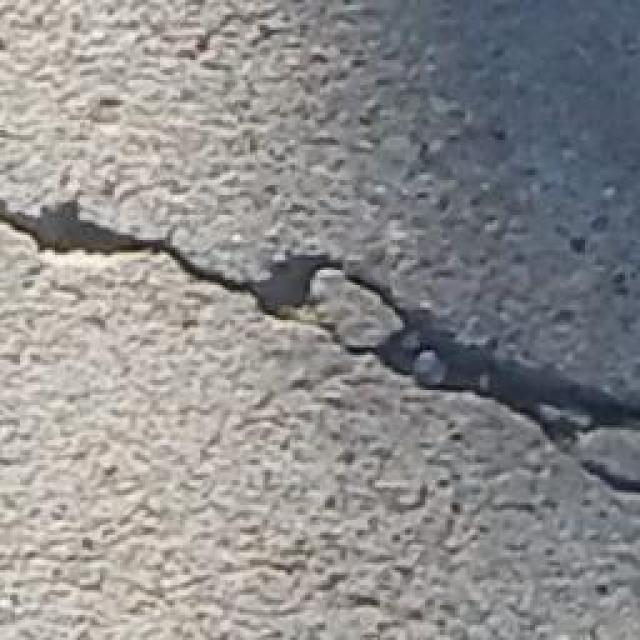concrete-crack: (0, 185, 640, 510)
